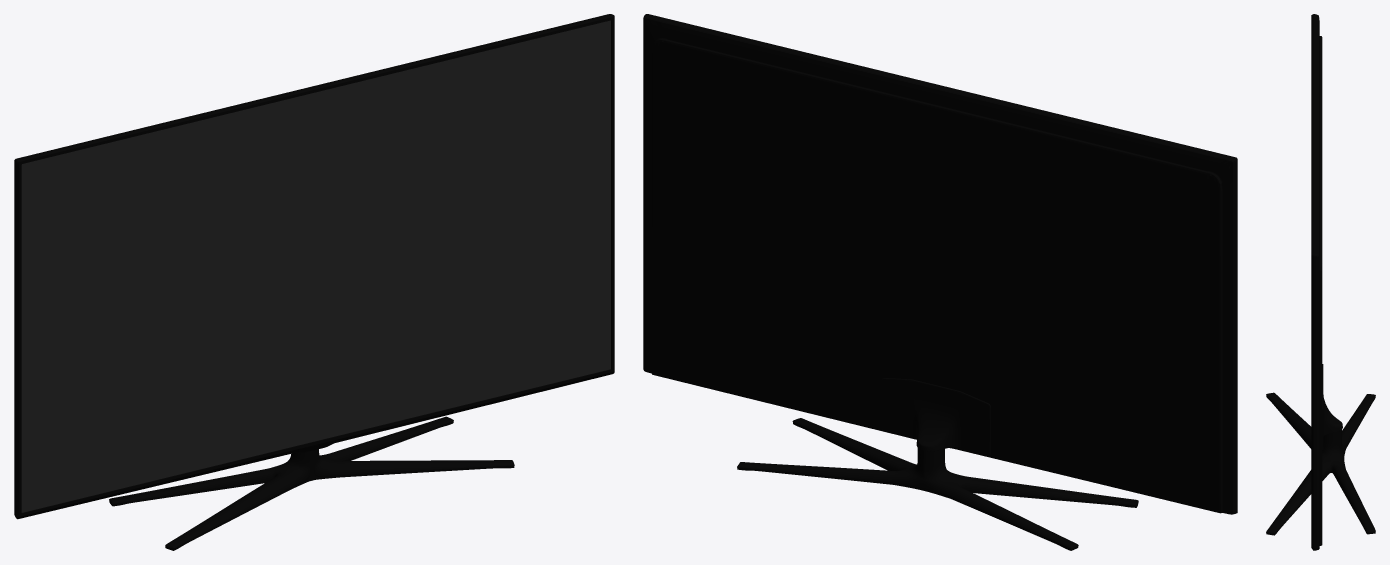
3 renders of one model, left to right at view 1: azimuth 30°, elevation 25°; view 2: azimuth 150°, elevation 25°; view 3: azimuth 270°, elevation 25°, orthographic. The views are drawn at different scales.
Parts seen in each view (by area): view 1: Screen, Object_3; view 2: Object_3; view 3: Object_3.
Boxes of the visible parts, bbox=[...] form: Screen: bbox=[21, 20, 610, 512]; Object_3: bbox=[14, 14, 614, 550]; Object_3: bbox=[643, 14, 1237, 550]; Object_3: bbox=[1266, 14, 1375, 550].
Bounding box in the file's own units: 13.45 × 8.61 × 2.58.
2 materials, 1 textured.
